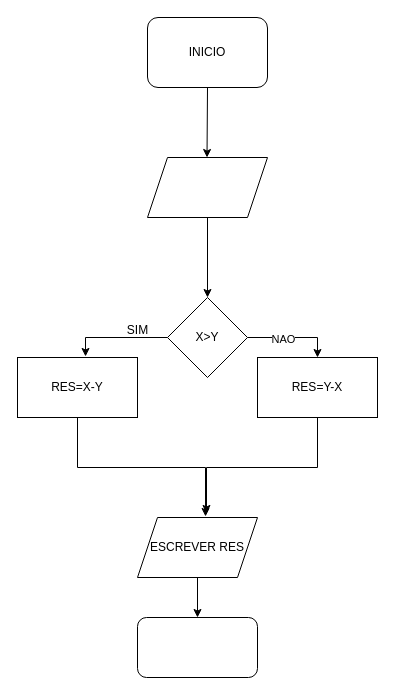
The diagram is 395 pixels wide and 695 high, and some of its shapes have lost their labels. Here are the shapes that lost their labels. From the top down, the centre of each, then its label:
At point (207, 187): "LER E,Y".
At point (197, 647): "FIM".
